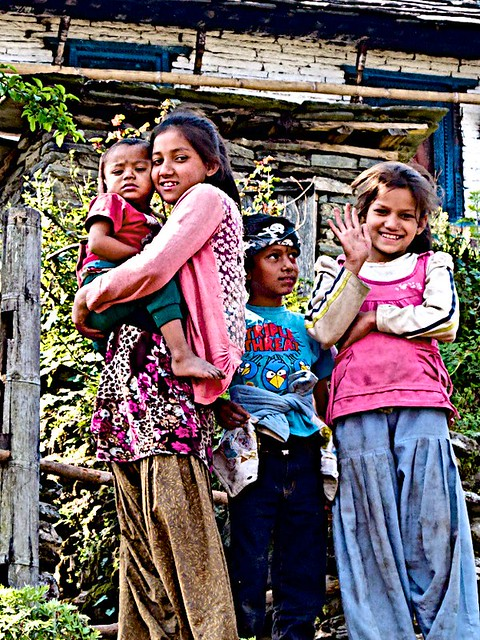human: (61, 100, 254, 640), (299, 159, 480, 640), (209, 206, 321, 640), (67, 127, 228, 404)
